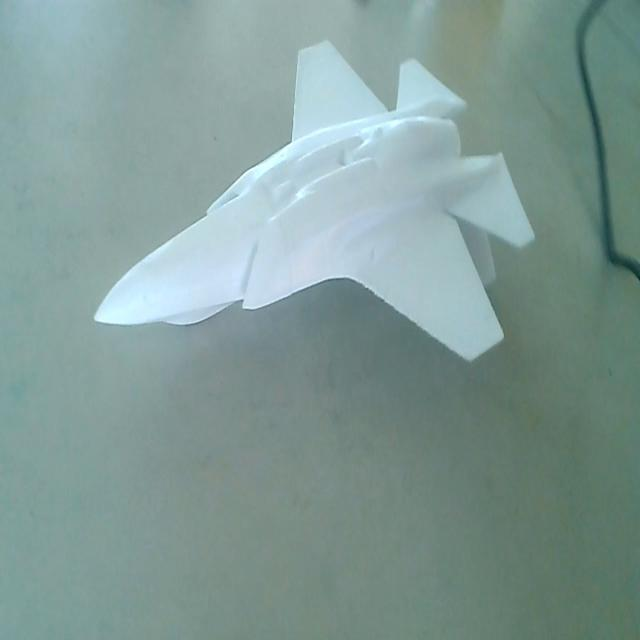Jet: (92, 30, 540, 380)
